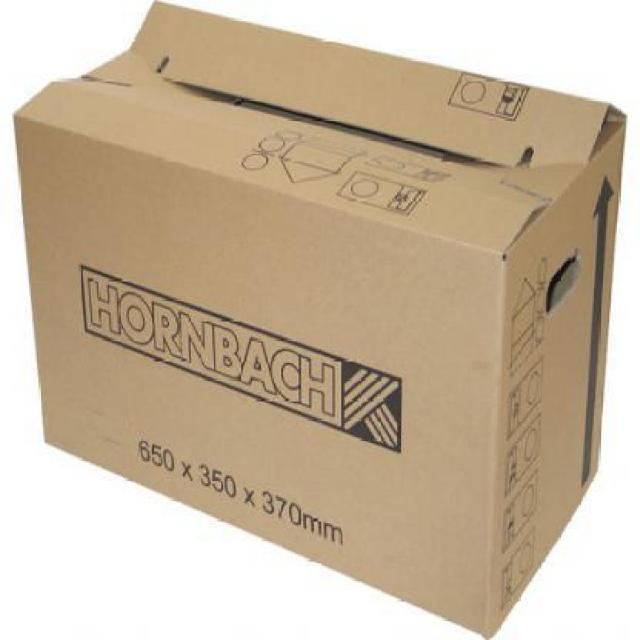Boxes: (15, 0, 630, 640)
